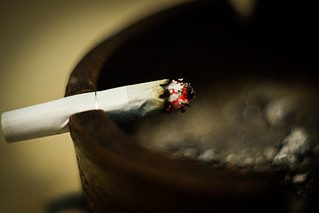cigarette: (0, 78, 198, 145)
